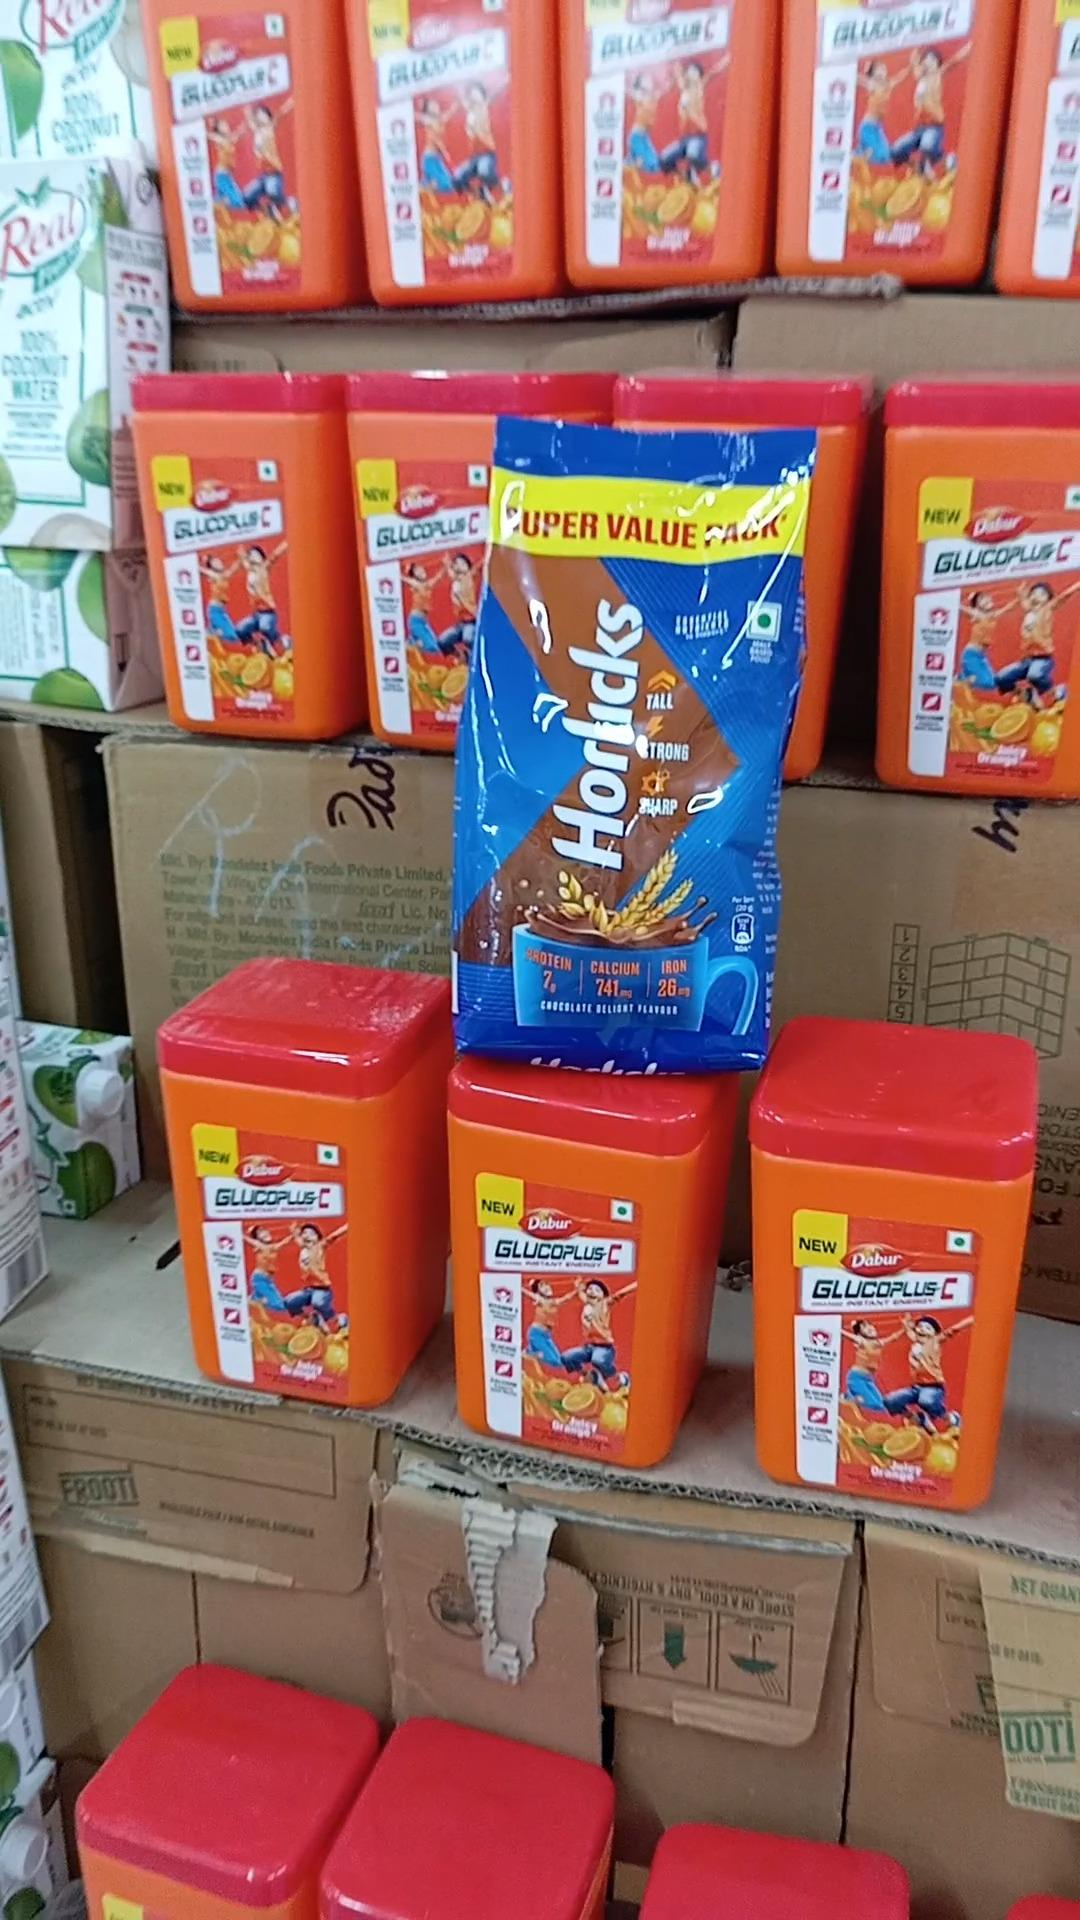HORLICK_CHOCOLATE_750_G_POUCH: (483, 426, 767, 1067)
